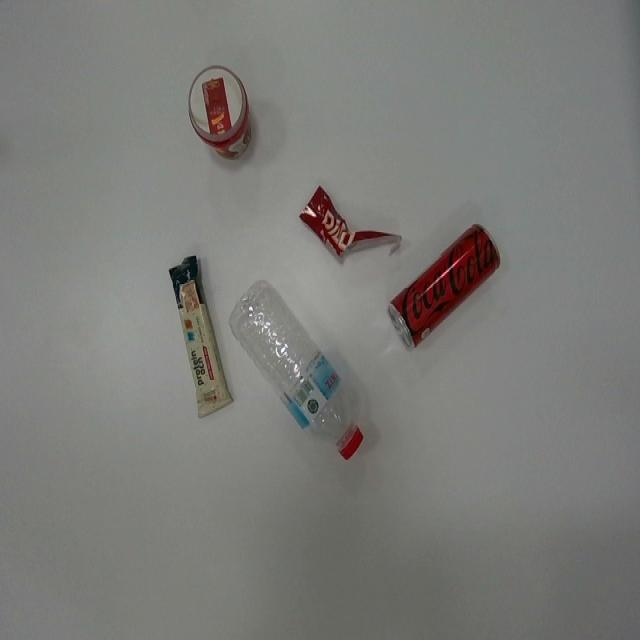metal: (387, 223, 500, 351)
plastic: (231, 280, 365, 462), (168, 254, 233, 418), (301, 186, 401, 263), (188, 65, 252, 161)
